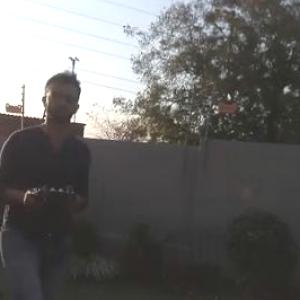follow: (0, 63, 95, 299)
